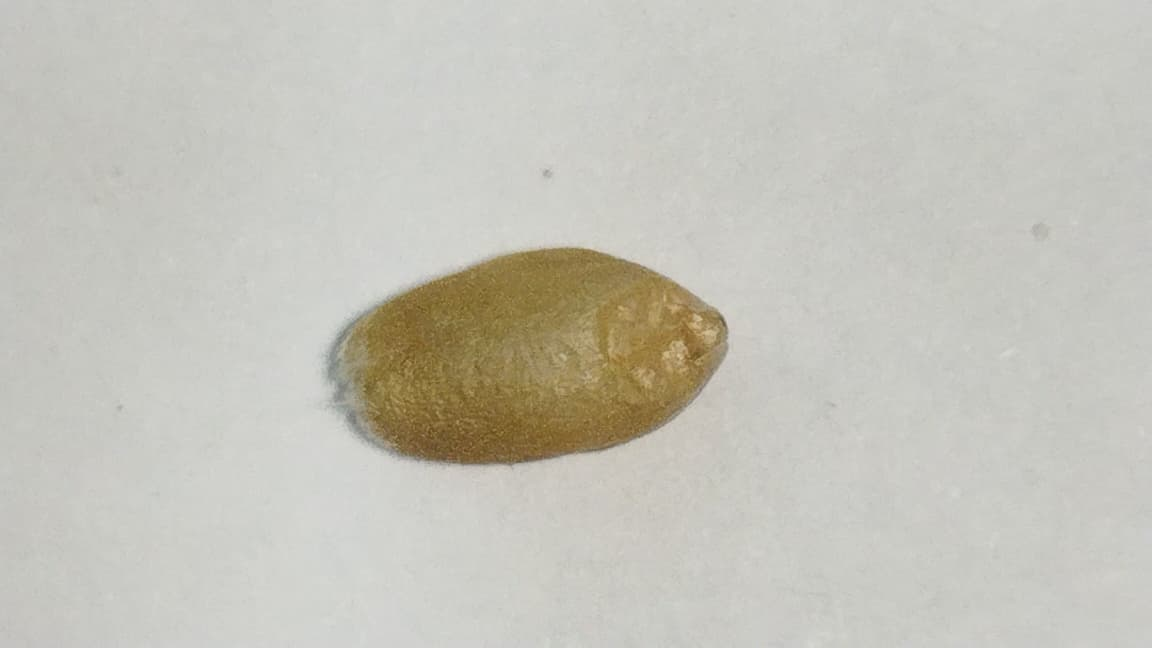healthy: (328, 251, 733, 470)
